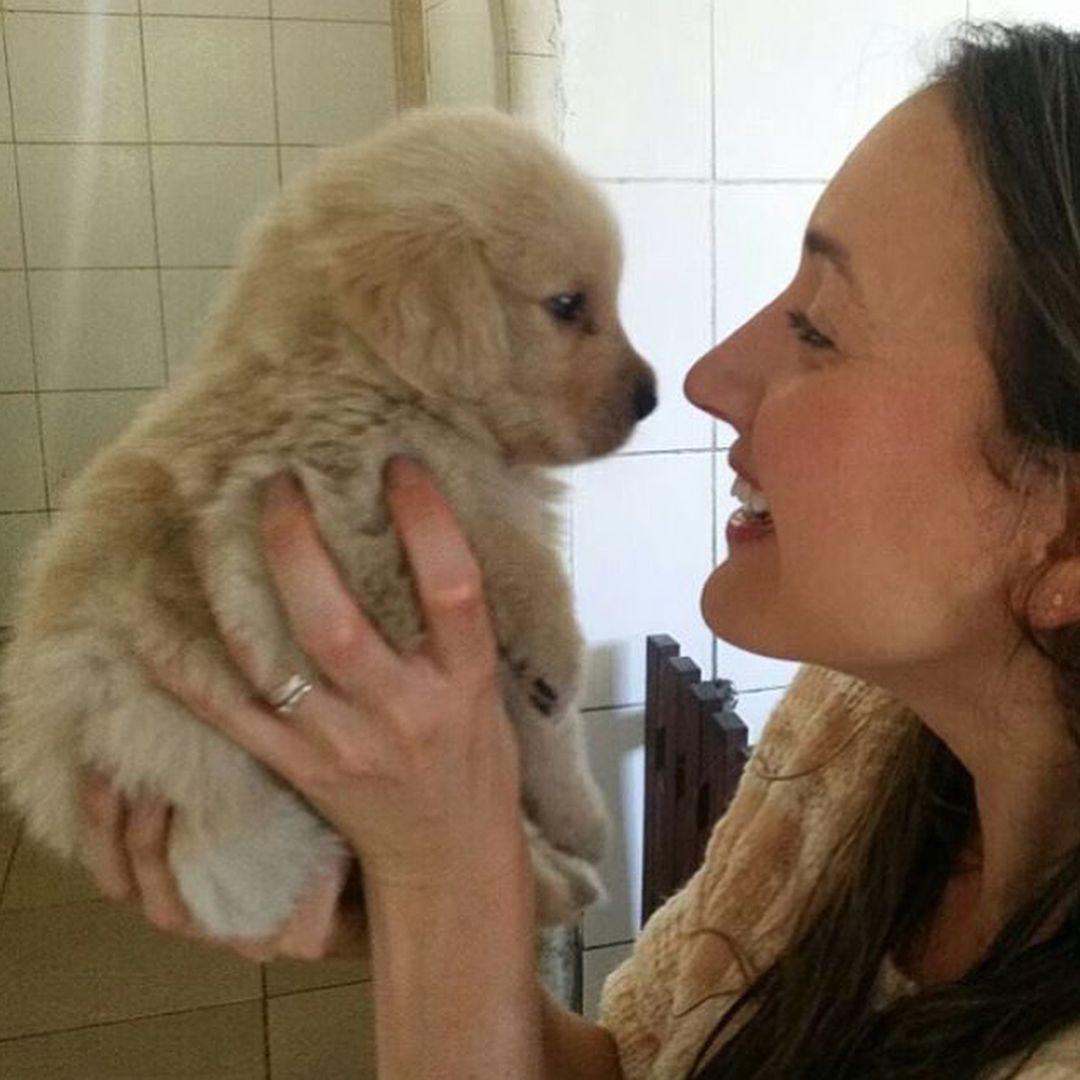non-dog: (86, 18, 1080, 1080)
puppy-dog: (1, 99, 660, 941)
